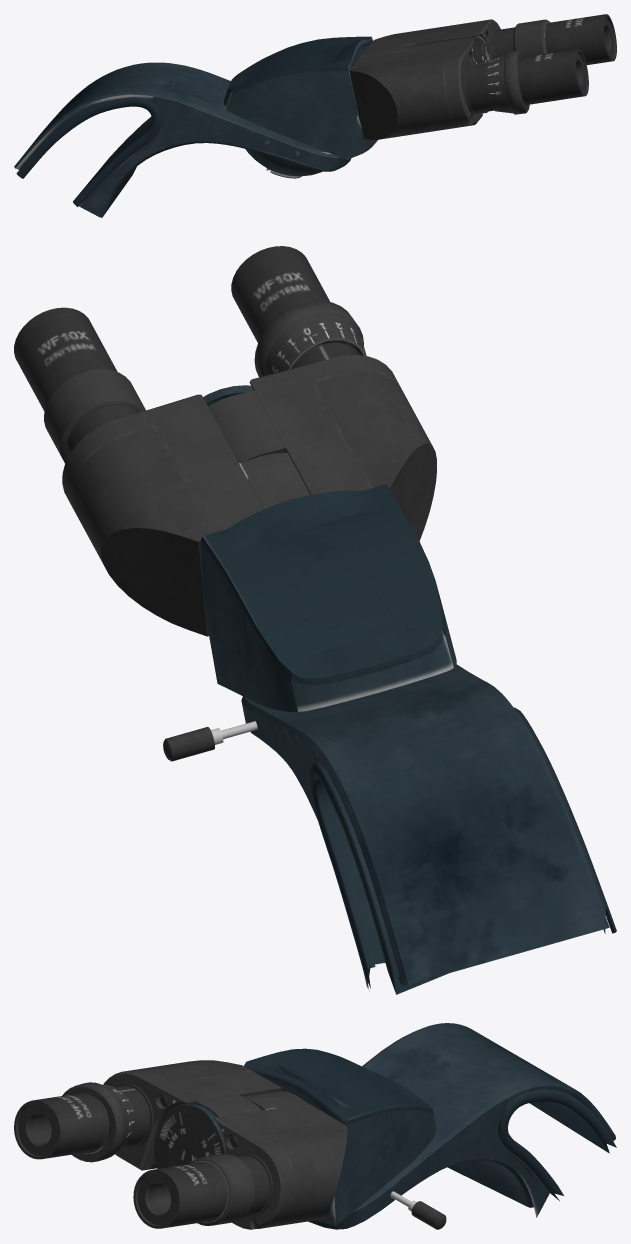
File: mobile.glb
The picture shows the model from 3 angles, top to bottom: view 1: azimuth 30°, elevation 25°; view 2: azimuth 150°, elevation 25°; view 3: azimuth 270°, elevation 25°; orthographic projection. The views are drawn at different scales.
Parts seen in each view (by area): view 1: model_2.004; view 2: model_2.004; view 3: model_2.004.
Part boxes in pixels (x1=…): model_2.004: x1=14, y1=14, x2=616, y2=217; model_2.004: x1=14, y1=246, x2=616, y2=994; model_2.004: x1=14, y1=1023, x2=616, y2=1229.
Bounding box in the file's own units: 7.5 × 3.29 × 6.67.
1 material, 1 textured.
